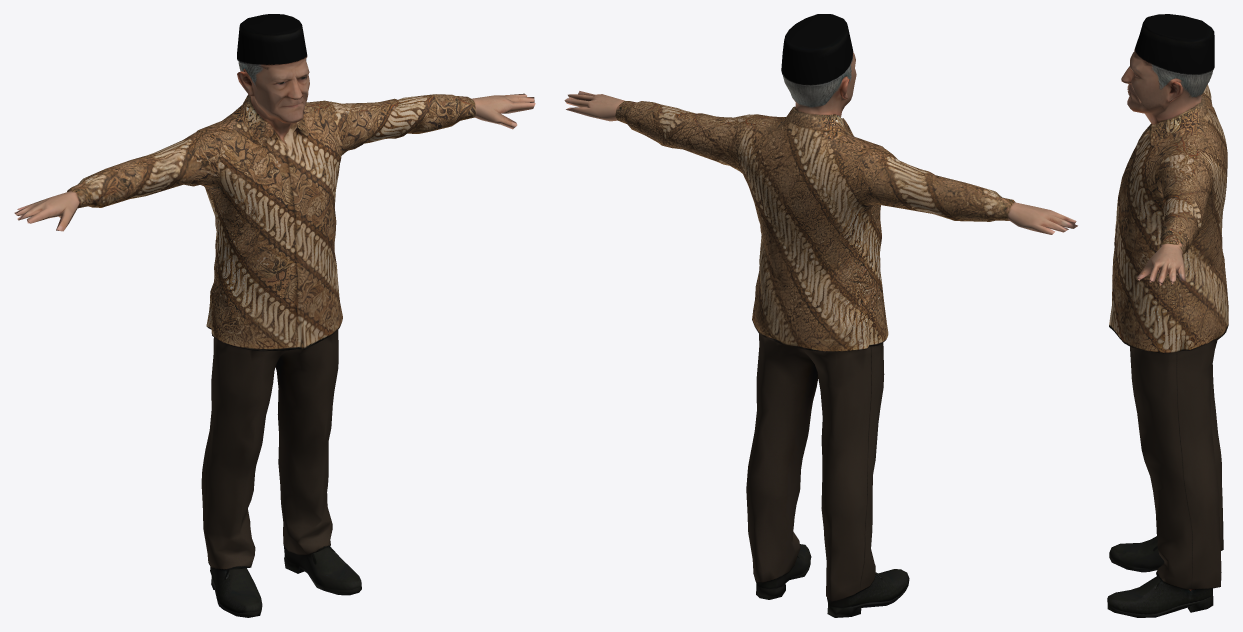
File: fan_uncle_upright.glb
3 views of the same model, side by side, from view 1: azimuth 30°, elevation 25°; view 2: azimuth 150°, elevation 25°; view 3: azimuth 270°, elevation 25° (orthographic).
Visible parts, largest first — view 1: tripo_node_19af4151-8084-4fce-88f7-39668b40a42e; view 2: tripo_node_19af4151-8084-4fce-88f7-39668b40a42e; view 3: tripo_node_19af4151-8084-4fce-88f7-39668b40a42e.
Part boxes in pixels (x1=…): tripo_node_19af4151-8084-4fce-88f7-39668b40a42e: x1=14, y1=14, x2=535, y2=617; tripo_node_19af4151-8084-4fce-88f7-39668b40a42e: x1=564, y1=14, x2=1077, y2=617; tripo_node_19af4151-8084-4fce-88f7-39668b40a42e: x1=1107, y1=14, x2=1228, y2=617.
Size of the model in its own units: 0.9468 by 0.9998 by 0.1945.
Materials: 1 (1 with a texture image).
